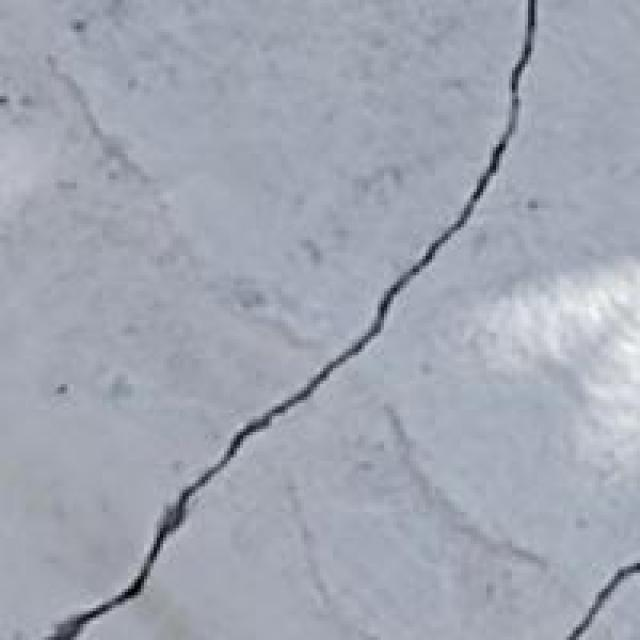Crack: (0, 6, 550, 636)
